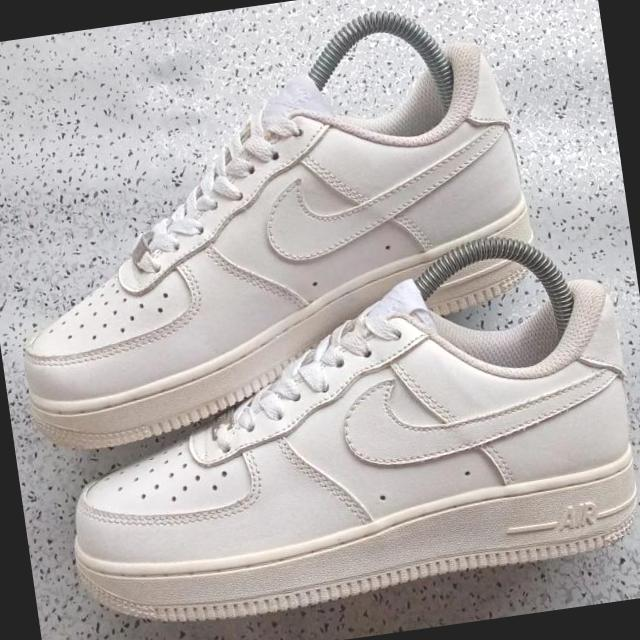nike_original_airforce: (0, 1, 620, 471), (28, 236, 640, 635)
